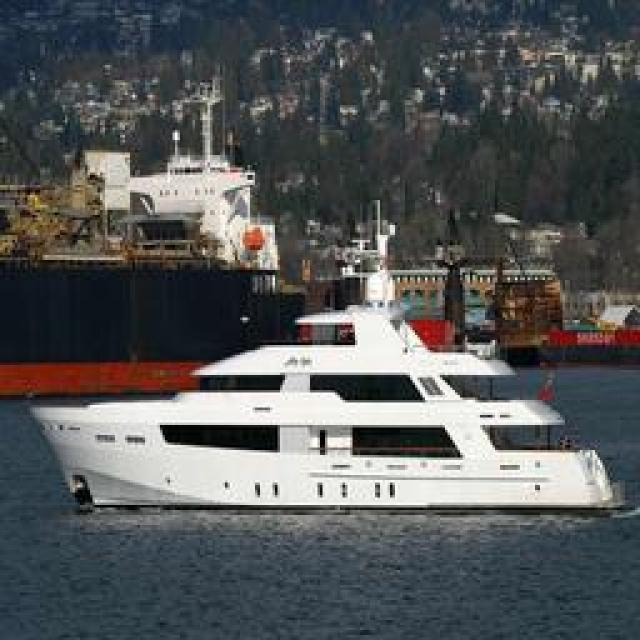ship2: (27, 223, 629, 522)
